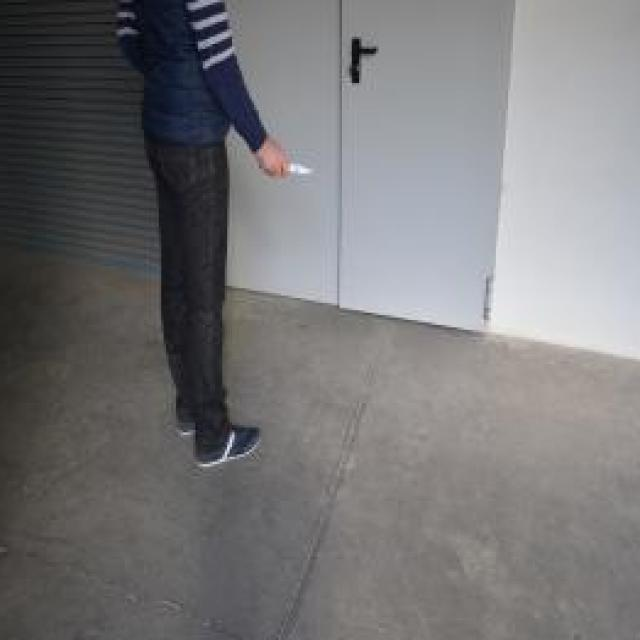knife: (257, 161, 315, 177)
